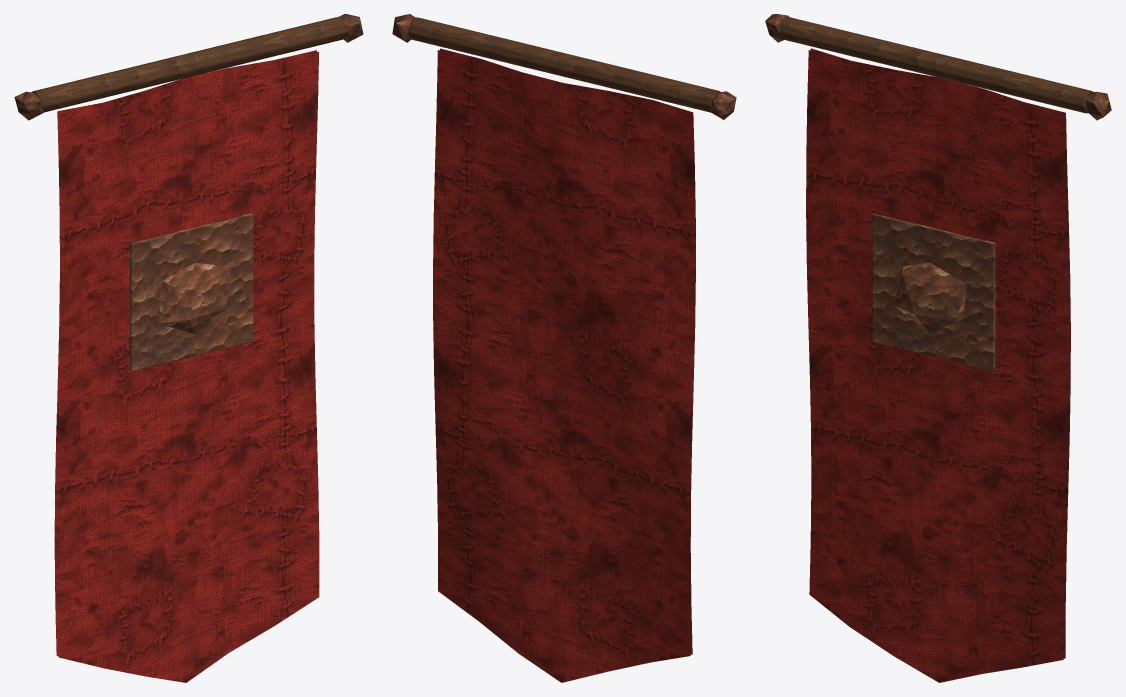
The model's file is banner__plank_root.glb.
The picture shows the model from 3 angles, left to right: view 1: azimuth 30°, elevation 25°; view 2: azimuth 150°, elevation 25°; view 3: azimuth 330°, elevation 25°; orthographic projection.
Visible parts, largest first — view 1: model; view 2: model; view 3: model.
Part boxes in pixels (x1,y1,x2,y2): model: (14,14,363,682); model: (392,14,736,682); model: (765,14,1111,682).
Bounding box in the file's own units: 1.11 × 1.97 × 0.1093.
5 materials, 5 textured.
